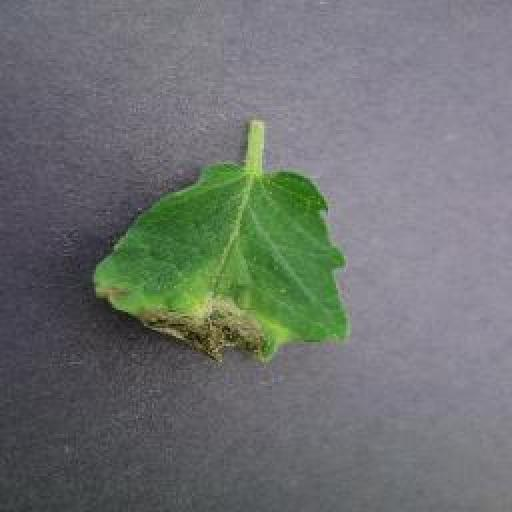disease_tomato: (96, 163, 354, 369)
